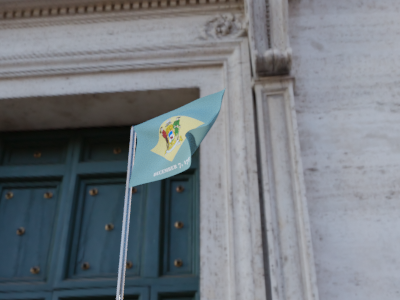Delaware flag: (125, 88, 230, 187)
